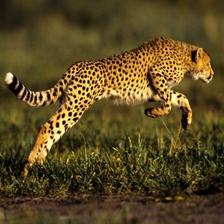Cheetah: (4, 35, 214, 184)
